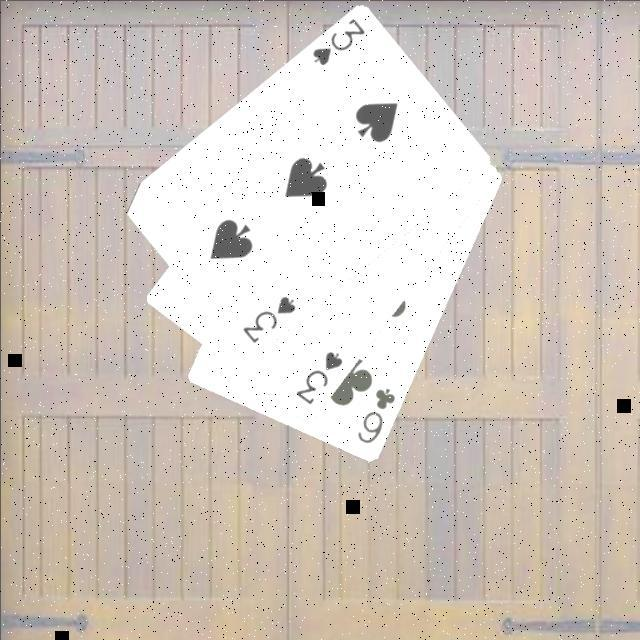3S: (291, 345, 344, 407), (237, 291, 297, 345), (307, 14, 367, 68)
6C: (352, 383, 397, 445)
